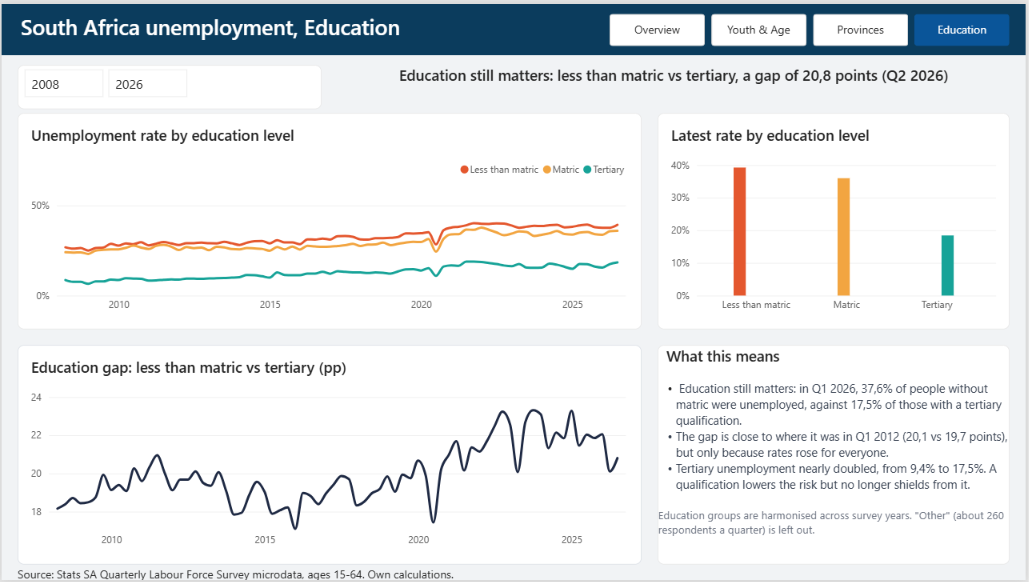

What the dashboard file says about the page in this screenshot:
{"tool":"powerbi","page":{"name":"Education","canvas":[1280,720],"ordinal":3},"visuals":[{"type":"shape","box":[0,0,1280,64],"z":0},{"type":"pageNavigator","box":[760,12,500,40],"z":1000},{"type":"slicer","fields":{"Values":["Dim_Date.year"]},"box":[20,76,380,55],"z":2000},{"type":"textbox","box":[24,10,720,44],"z":3000},{"type":"textbox","box":[420,76,840,48],"z":4000},{"type":"textbox","box":[20,702,1240,18],"z":5000},{"type":"lineChart","title":"Unemployment rate by education level","fields":{"Category":["Dim_Date.quarter_end"],"Y":["_Measures.Rate Education"],"Series":["Dim_Education.education"]},"box":[20,136,780,270],"z":5001},{"type":"lineChart","title":"Education gap: less than matric vs tertiary (pp)","fields":{"Category":["Dim_Date.quarter_end"],"Y":["_Measures.Education Gap"]},"box":[20,426,780,274],"z":5002},{"type":"clusteredColumnChart","title":"Latest rate by education level","fields":{"Category":["Dim_Education.education"],"Y":["_Measures.Latest Rate by Education"],"Series":["Dim_Education.education"]},"box":[820,136,440,270],"z":5003},{"type":"textbox","box":[820,426,440,274],"z":5004}]}

Visuals, with their boxes in screenshot pixels (x1, y1, x2, y2), scaled from the page's 1280x720 canvas onto the 1029x582 screenshot:
shape: detection(0, 0, 1028, 52)
pageNavigator: detection(611, 10, 1013, 42)
slicer - Dim_Date.year: detection(16, 61, 322, 106)
textbox: detection(19, 8, 598, 44)
textbox: detection(338, 61, 1013, 100)
textbox: detection(16, 567, 1013, 581)
"Unemployment rate by education level" lineChart: detection(16, 110, 643, 328)
"Education gap: less than matric vs tertiary (pp)" lineChart: detection(16, 344, 643, 566)
"Latest rate by education level" clusteredColumnChart: detection(659, 110, 1013, 328)
textbox: detection(659, 344, 1013, 566)
